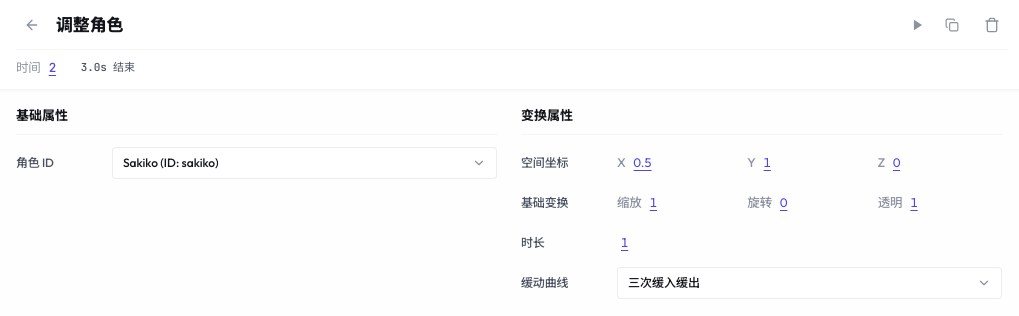
Test: ActionInspector › does not offer narrator option for character action id select
Click the dropdown with test id "action-param-id" at {"x": 171, "y": 162}, box [112,146,497,178]
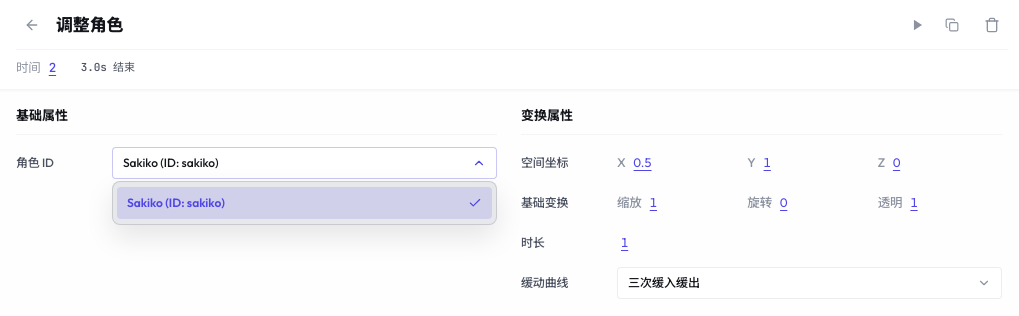
Expected: the option "Sakiko (ID: sakiko)" is shown, [117,186,492,218]
